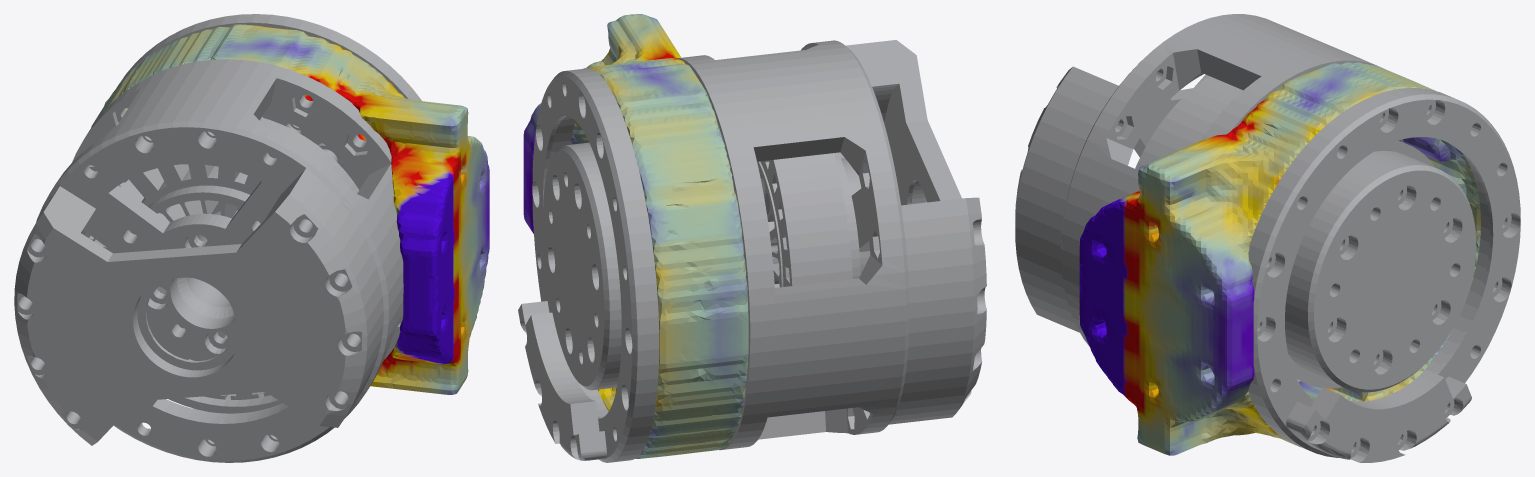
The model's file is leg_left_hip_roll_opt.glb.
The picture shows the model from 3 angles, left to right: view 1: azimuth 30°, elevation 25°; view 2: azimuth 150°, elevation 25°; view 3: azimuth 270°, elevation 25°; orthographic projection. The views are drawn at different scales.
Visible parts, largest first — view 1: leg_left_hip_roll_visual.stl; view 2: leg_left_hip_roll_visual.stl; view 3: leg_left_hip_roll_visual.stl.
Boxes of the visible parts, <box> form: leg_left_hip_roll_visual.stl: <box>14,14,489,462</box>; leg_left_hip_roll_visual.stl: <box>518,14,986,462</box>; leg_left_hip_roll_visual.stl: <box>1015,14,1520,462</box>.
Size of the model in its own units: 0.1223 by 0.088 by 0.1167.
